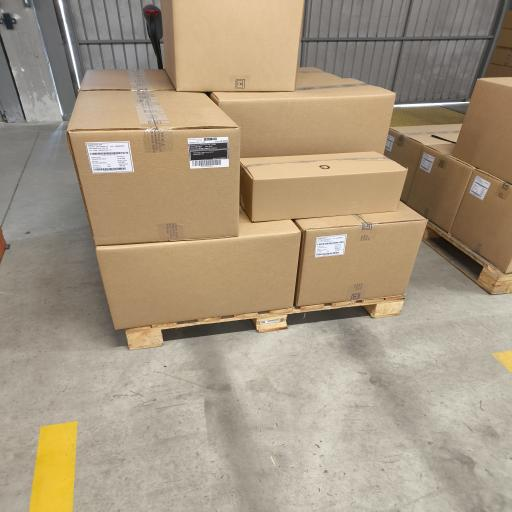pallet: (126, 296, 404, 349), (423, 222, 511, 294), (0, 228, 7, 261)
